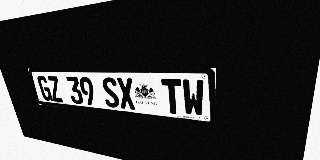3: (66, 76, 84, 105)
9: (78, 77, 97, 106)
G: (36, 76, 53, 101)
S: (101, 77, 120, 108)
T: (161, 79, 183, 115)
W: (182, 79, 205, 117)
X: (116, 78, 136, 110)
Z: (46, 76, 64, 102)
